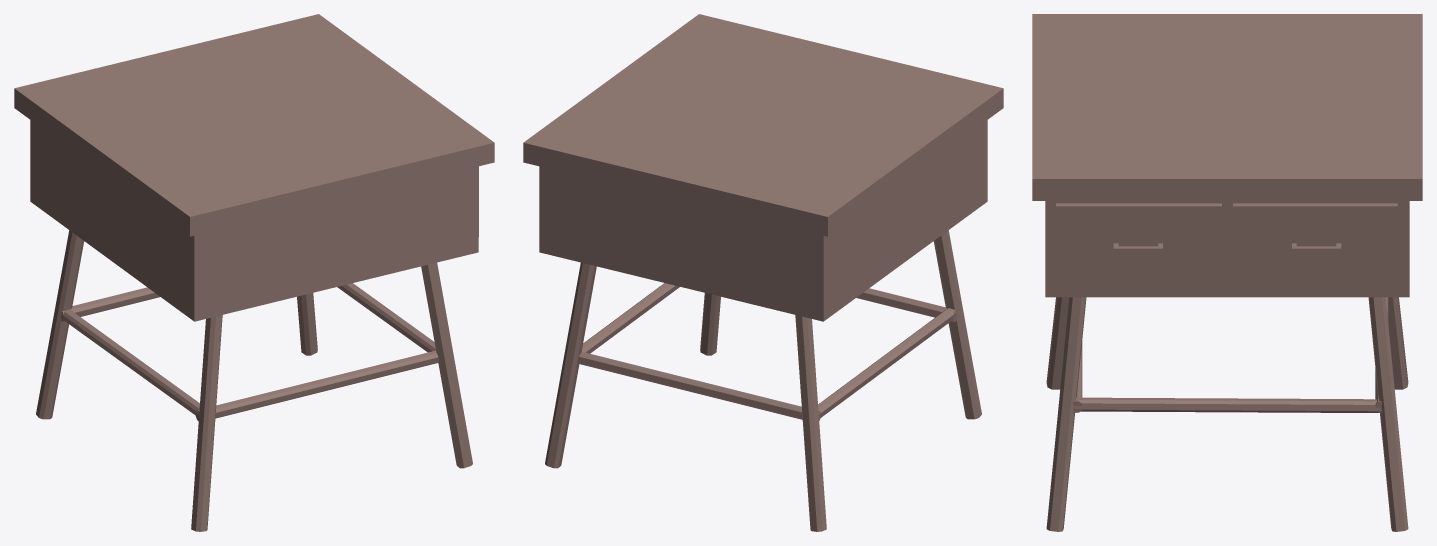
The model's file is EntranceTable.fbx.
3 views of the same model, side by side, from view 1: azimuth 30°, elevation 25°; view 2: azimuth 150°, elevation 25°; view 3: azimuth 270°, elevation 25° (orthographic). The views are drawn at different scales.
Visible parts, largest first — view 1: EntranceTable; view 2: EntranceTable; view 3: EntranceTable.
Part boxes in pixels (<box>): EntranceTable: <box>14,14,494,531</box>; EntranceTable: <box>523,14,1003,531</box>; EntranceTable: <box>1032,14,1422,531</box>.
Size of the model in its own units: 109 by 107 by 110.
